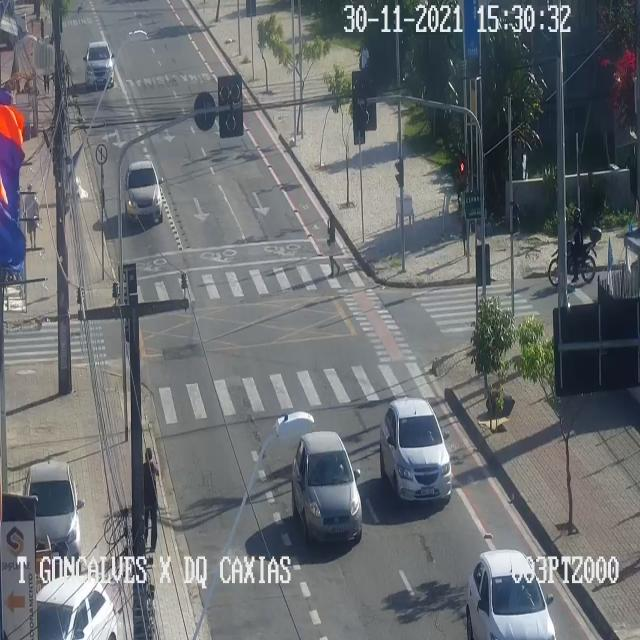Car: (293, 430, 362, 547), (466, 549, 554, 639), (380, 398, 450, 508), (24, 463, 83, 567), (36, 576, 116, 639), (125, 158, 165, 225), (84, 41, 115, 89)
Motorcycle: (548, 209, 600, 286)
